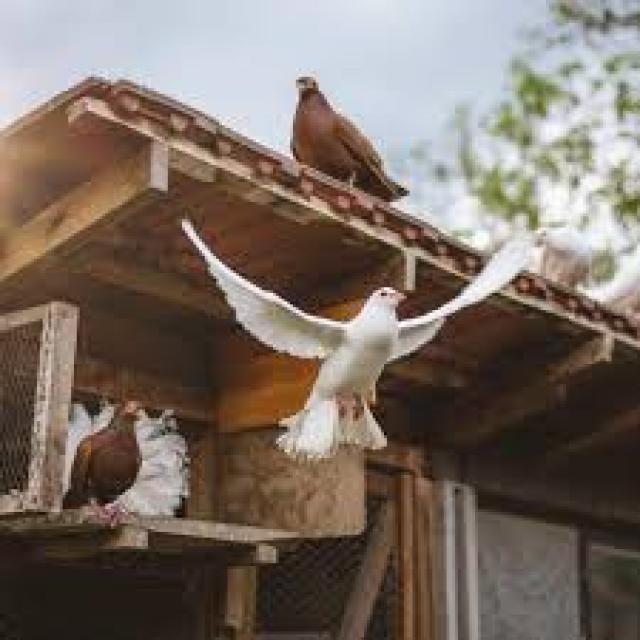pigeon: (177, 204, 553, 477)
